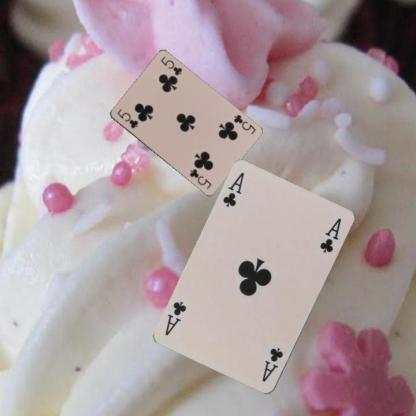5c: (230, 112, 256, 136), (115, 106, 140, 130)
Ac: (259, 345, 285, 384), (220, 170, 246, 209)
